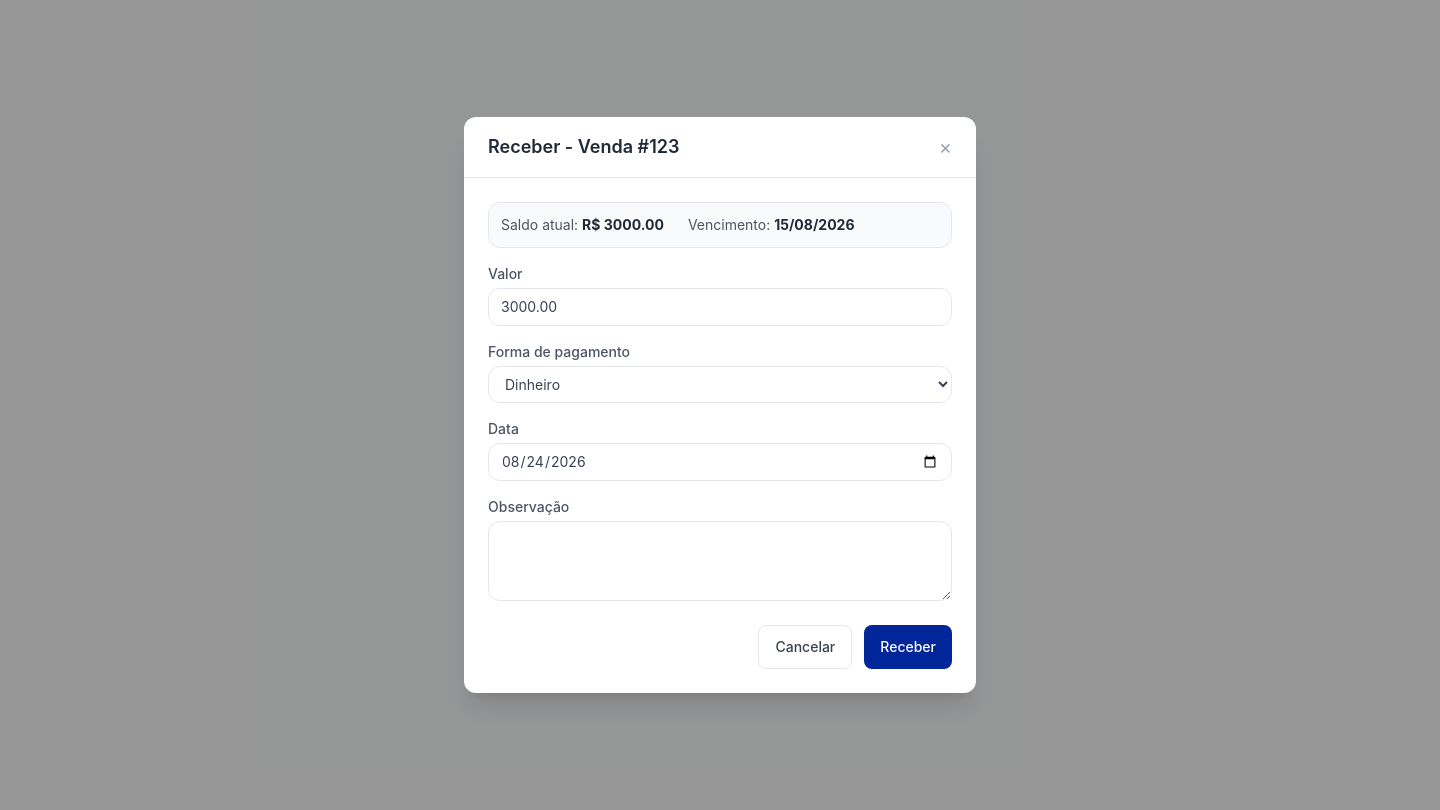
Test: SettlementDialog › shows error on 409 conflict over-settlement
Replace the text in the number field with test id "settlement-amount" with "2500" at (720, 307), box [488,288,952,326]
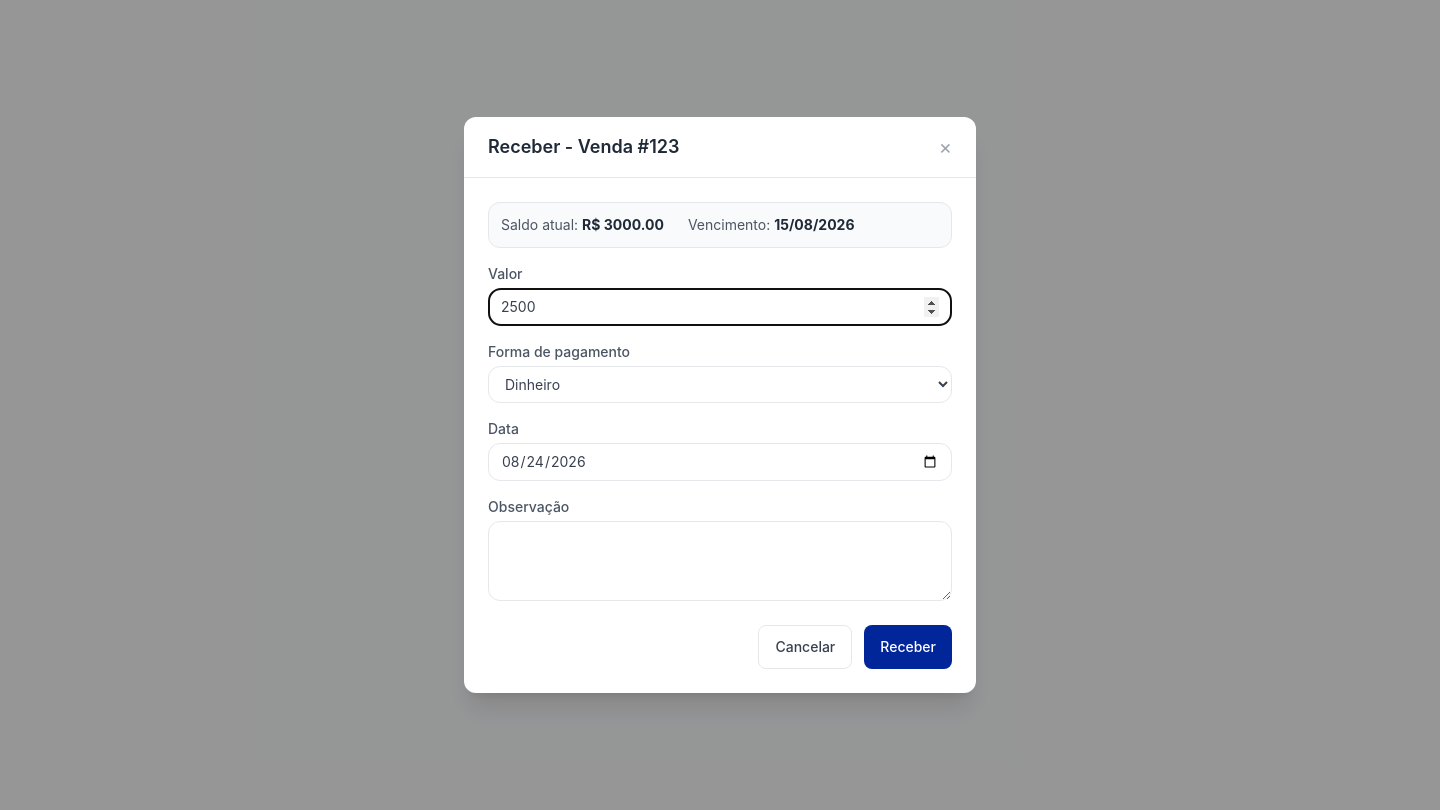
Click the button with test id "settlement-submit" at (908, 647), box [864,625,952,669]
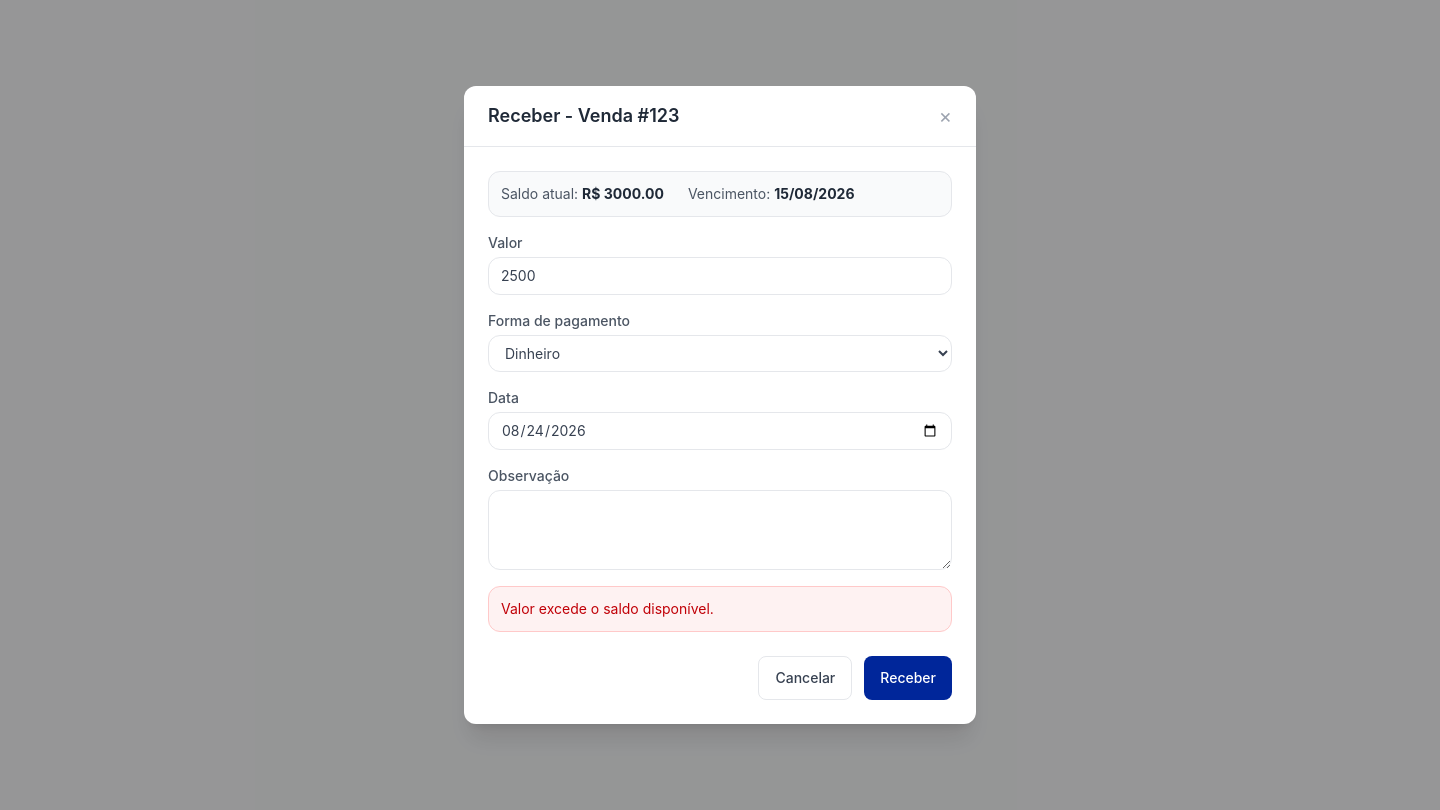
Now the text with test id "settlement-error" reads "Valor excede o saldo disponível.", box [501,600,714,617]
